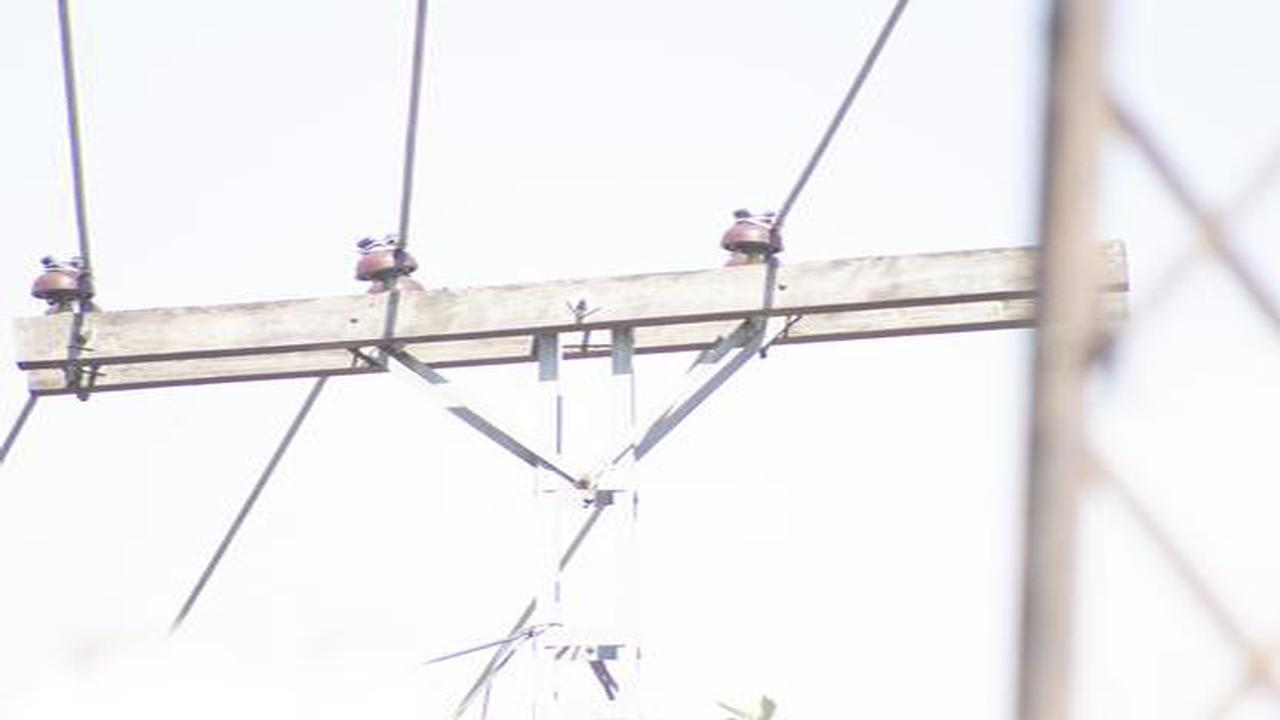insulator_pin: (715, 200, 792, 261), (30, 252, 97, 310), (351, 230, 420, 285)
